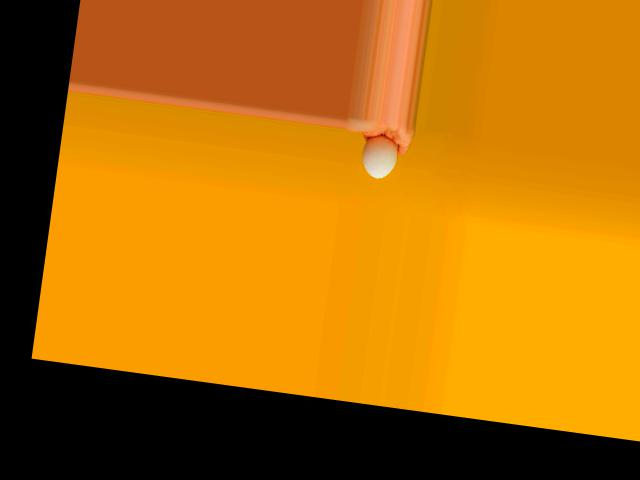egg: (361, 133, 399, 180)
